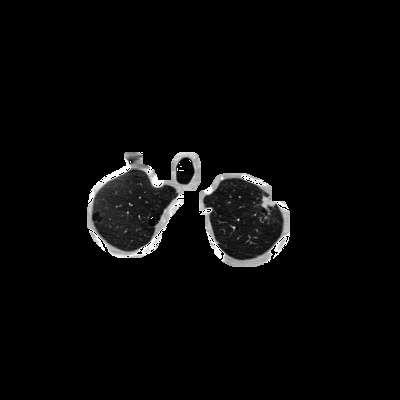PN: (261, 197, 273, 209)
